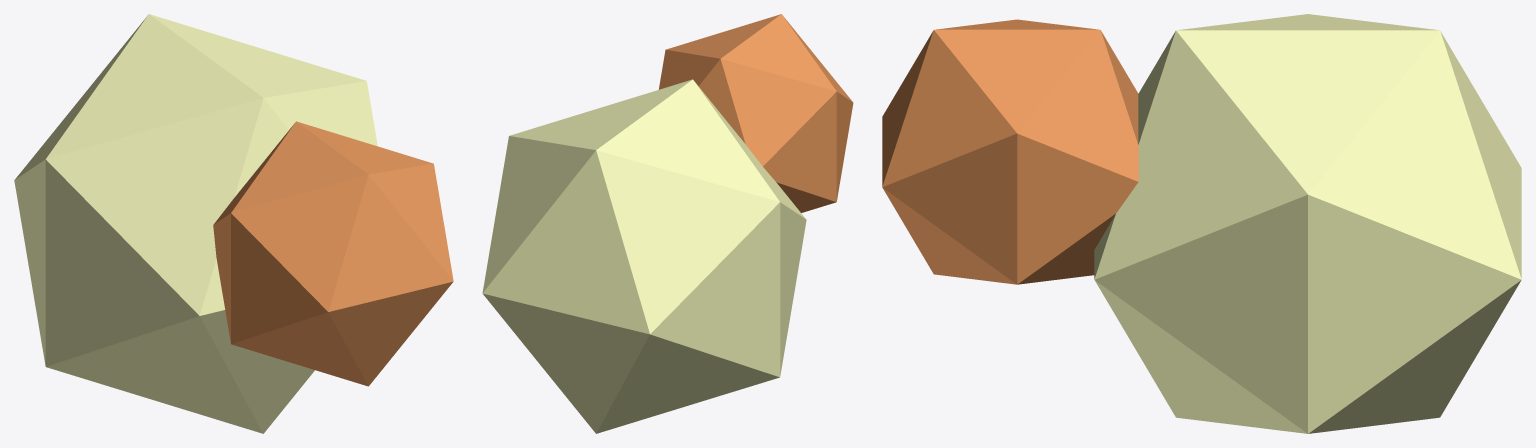
The model's file is firefly.glb.
3 views of the same model, side by side, from view 1: azimuth 30°, elevation 25°; view 2: azimuth 150°, elevation 25°; view 3: azimuth 270°, elevation 25° (orthographic). The views are drawn at different scales.
Parts seen in each view (by area): view 1: Glow, Head; view 2: Glow, Head; view 3: Glow, Head.
Part boxes in pixels (bbox=[...]): Glow: bbox=[14, 14, 377, 433]; Head: bbox=[213, 121, 453, 386]; Glow: bbox=[482, 79, 806, 433]; Head: bbox=[658, 14, 853, 212]; Glow: bbox=[1094, 14, 1521, 433]; Head: bbox=[882, 19, 1138, 284].
Bounding box in the file's own units: 0.1616 × 0.1619 × 0.2419.
